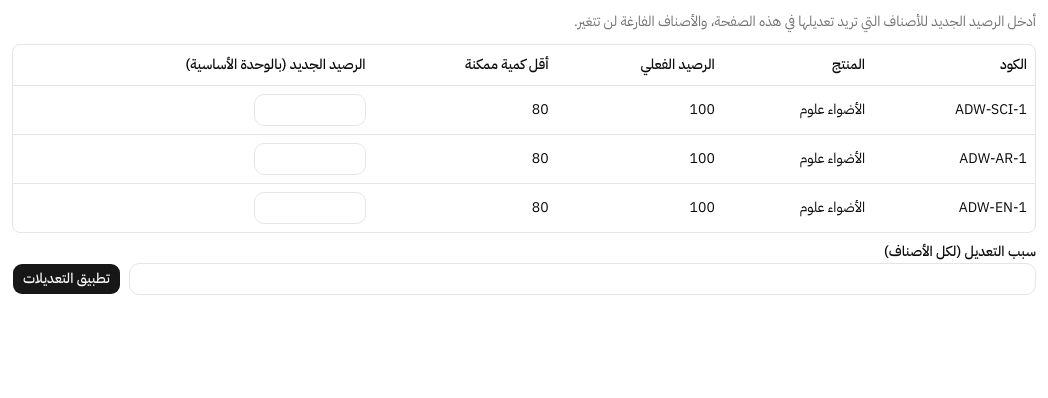
Test: BulkAdjustTable › sends only the filled rows with the shared reason and lists the skipped ones with their reason
The width and height of the screenshot is (1048, 398).
In the field named "الرصيد الجديد (بالوحدة الأساسية) ADW-SCI-1": (310, 110) x1=254 y1=94 x2=366 y2=126, type "120"
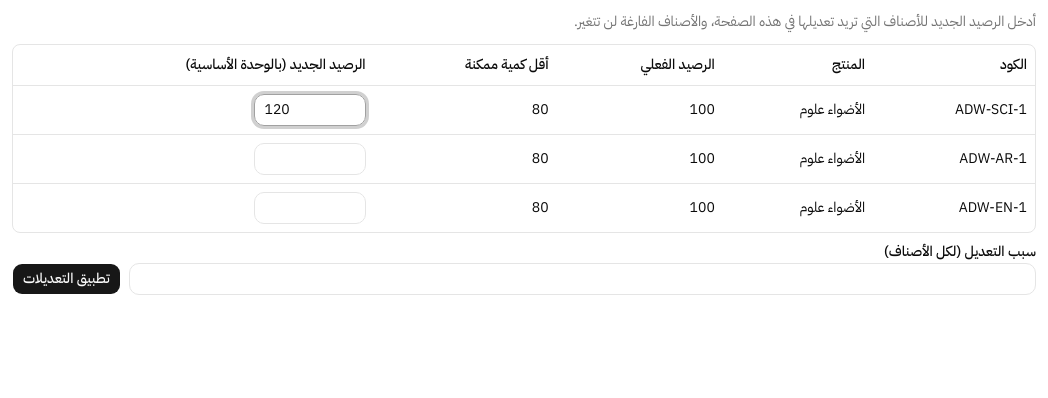
In the field named "الرصيد الجديد (بالوحدة الأساسية) ADW-AR-1": (310, 158) x1=254 y1=142 x2=366 y2=174, type "10"
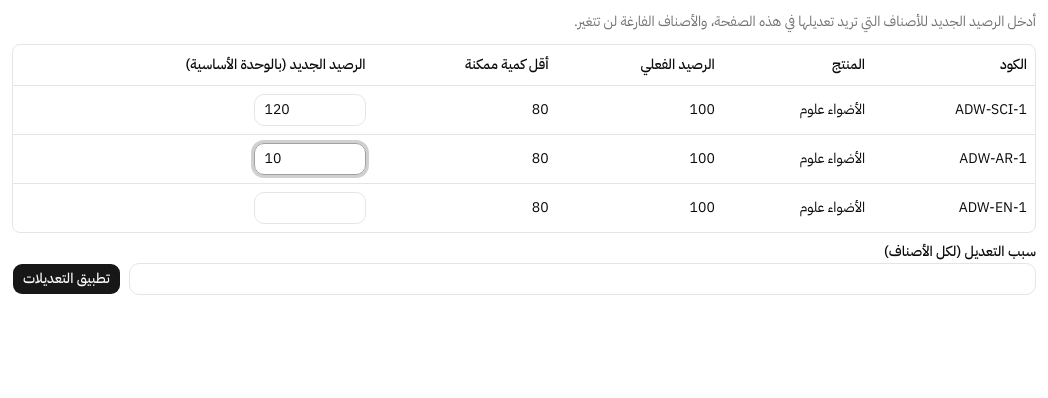
In the field labelled "سبب التعديل (لكل الأصناف)": (582, 278) x1=129 y1=262 x2=1036 y2=294, type "جرد سنوي"
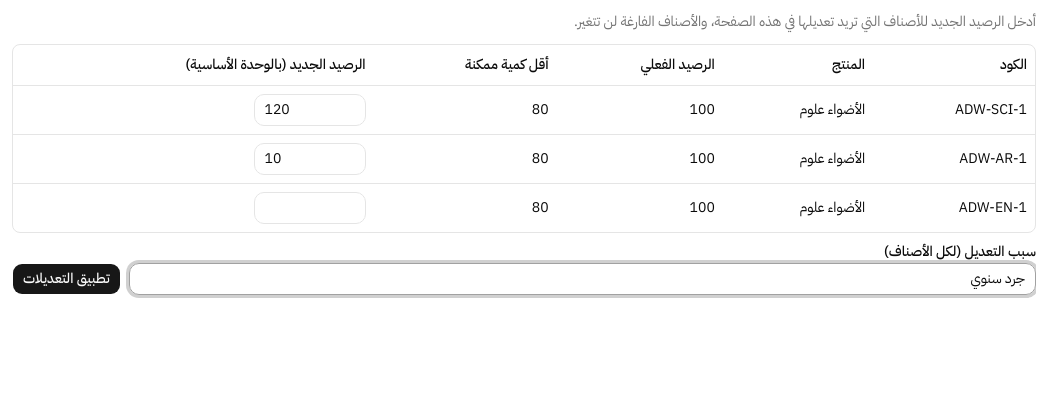
Click the button "تطبيق التعديلات": (66, 278) x1=12 y1=262 x2=121 y2=294
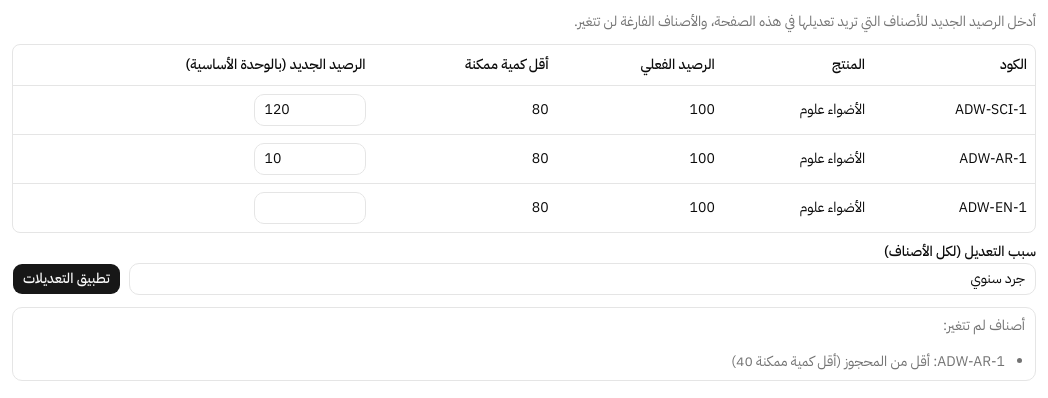
Check: the message with test id "bulk-skipped" shows "ADW-AR-1: أقل من المحجوز (أقل كمية ممكنة 40)", box x1=12 y1=306 x2=1036 y2=380
